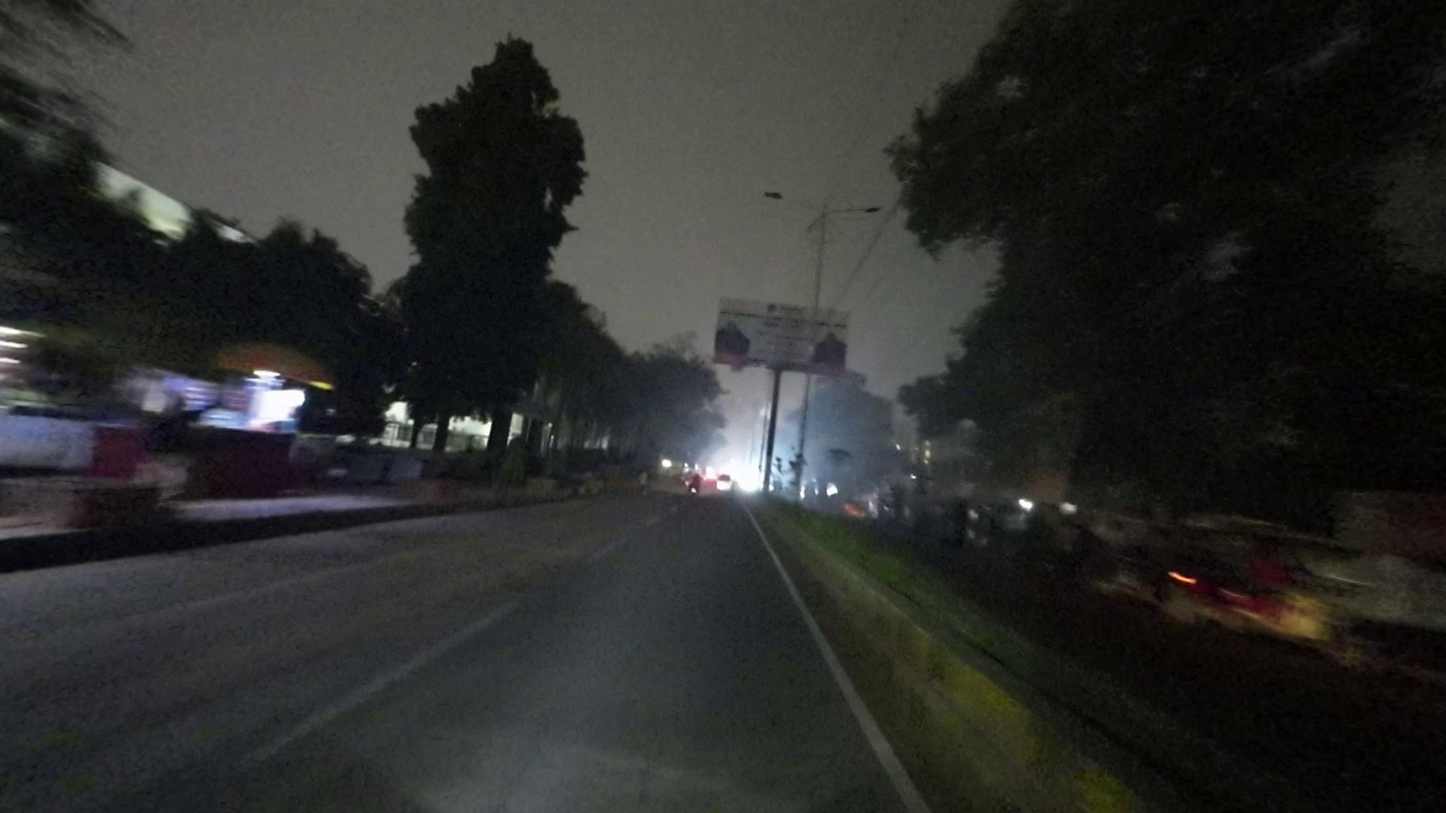streetlight: (764, 190, 818, 212), (827, 206, 883, 217)
